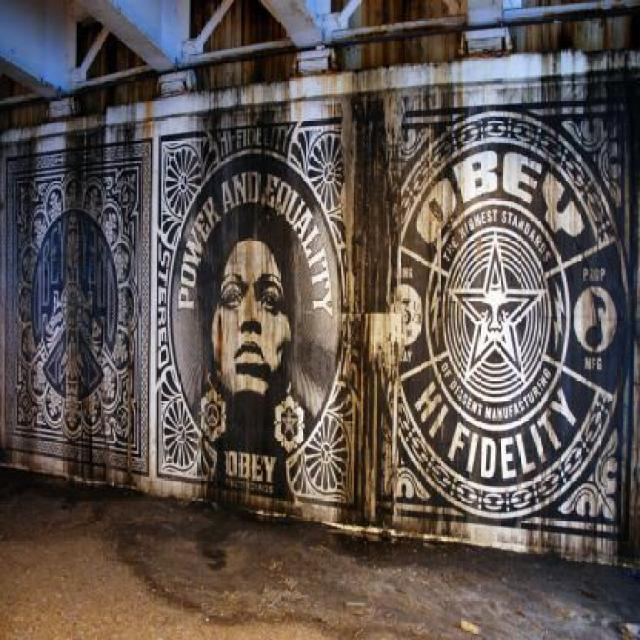Person: (189, 215, 288, 437)
